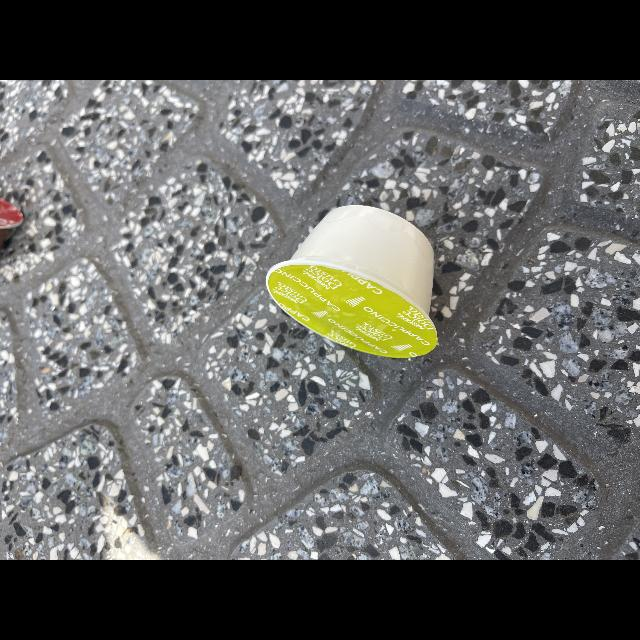intact_capsule: (261, 188, 454, 368)
